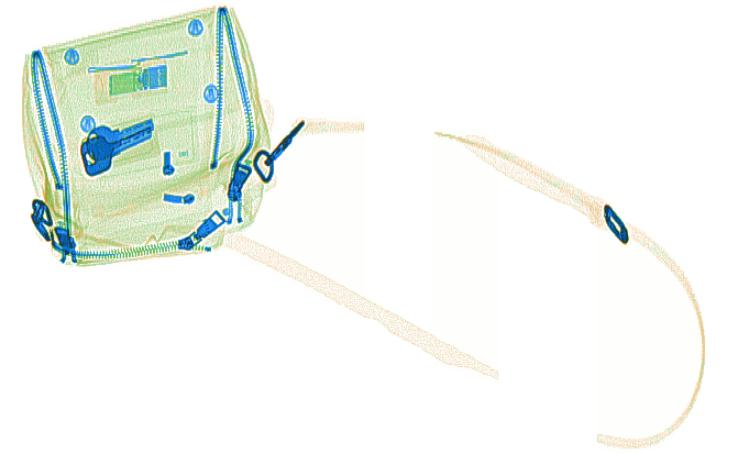USBFlashDisk: (106, 64, 171, 98)
